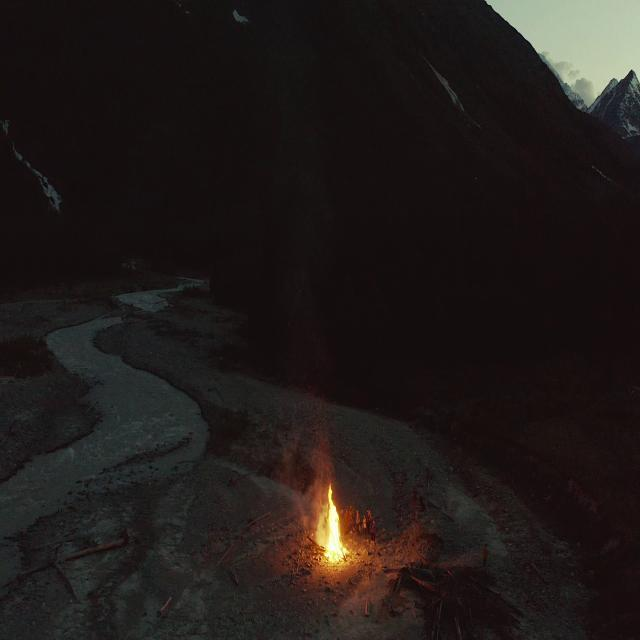Fire: (316, 478, 352, 569)
